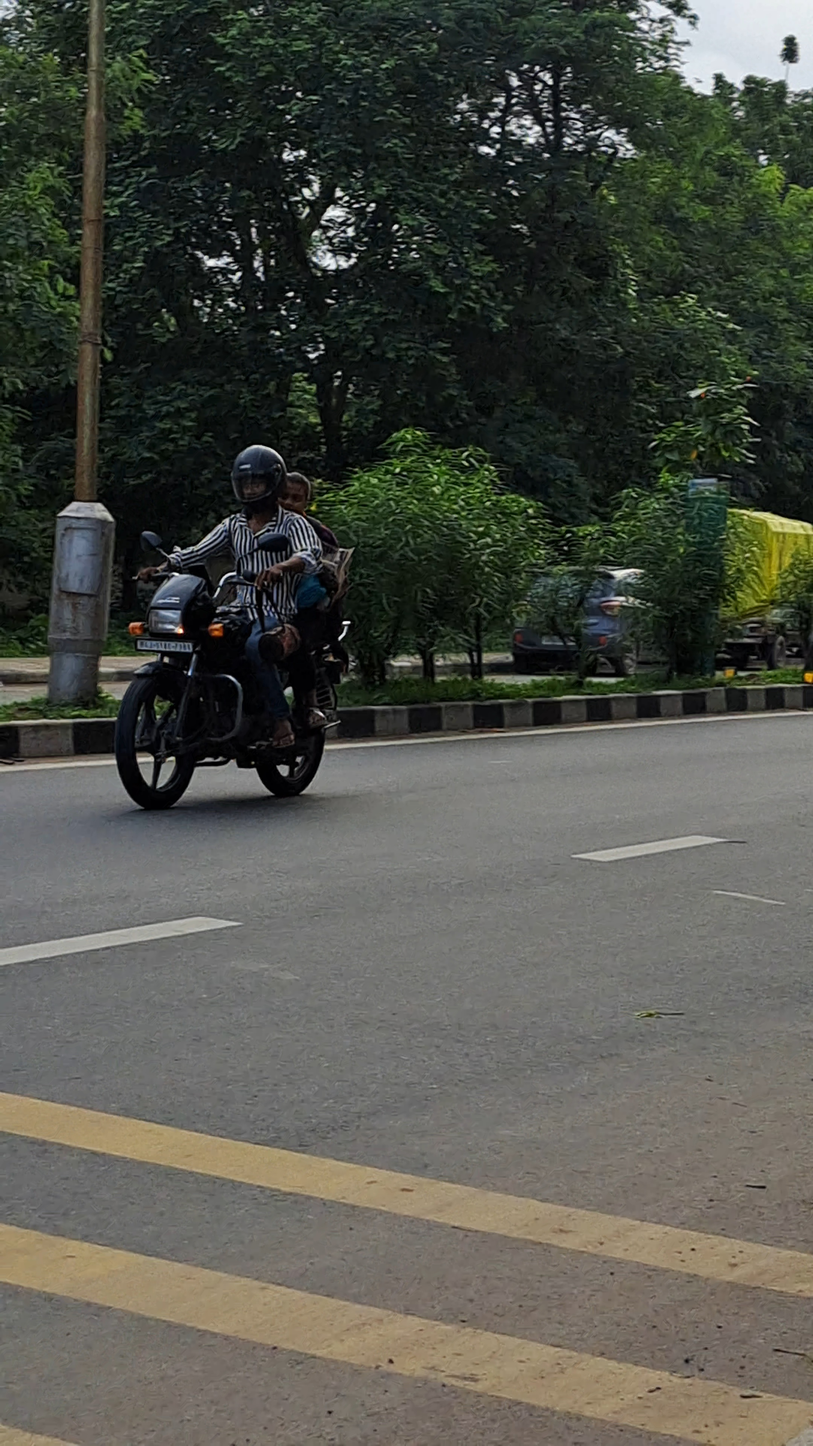BikeWithRider: (101, 438, 365, 820)
Helmet: (220, 438, 294, 518)
NoHelmet: (273, 465, 320, 523)
